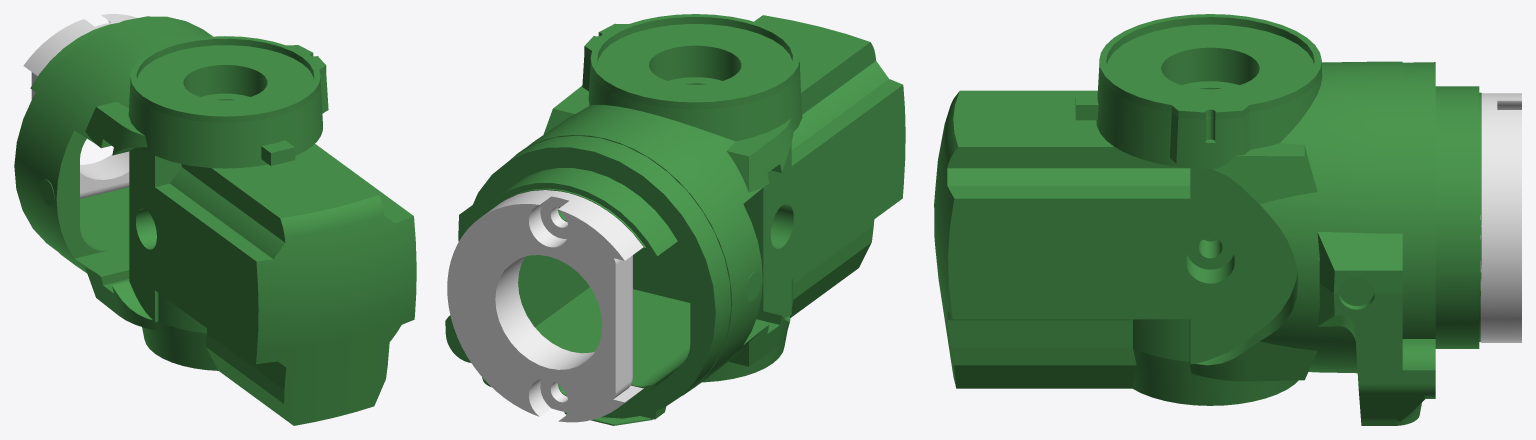
3 renders of one model, left to right at view 1: azimuth 30°, elevation 25°; view 2: azimuth 150°, elevation 25°; view 3: azimuth 270°, elevation 25°, orthographic. The views are drawn at different scales.
Visible parts, largest first — view 1: Body1 (×2); view 2: Body1 (×2); view 3: Body1 (×2).
Boxes of the visible parts, <box> form: Body1 (×2): <box>14,14,416,425</box>; Body1 (×2): <box>445,14,905,425</box>; Body1 (×2): <box>934,14,1521,425</box>.
Size of the model in its own units: 40.89 by 41 by 71.51.
